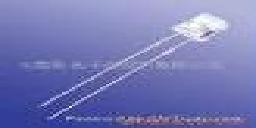LED: (87, 9, 231, 102)
